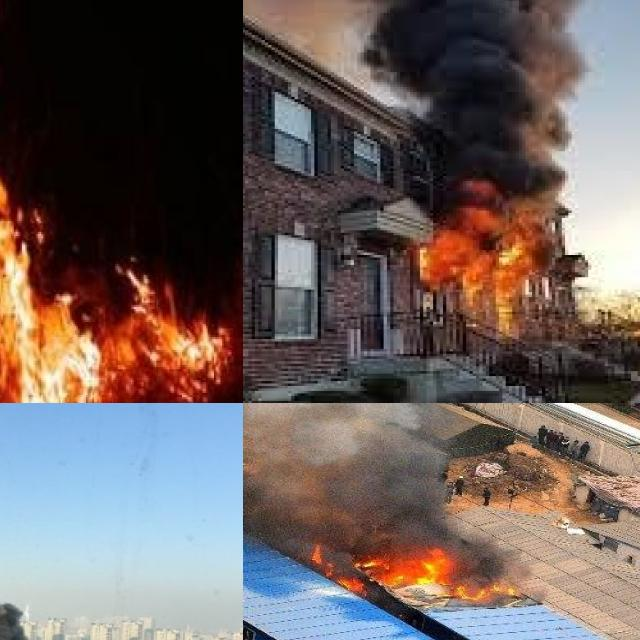fire: (0, 0, 236, 403), (390, 176, 578, 334), (308, 525, 527, 622)
smoke: (284, 0, 575, 200), (243, 403, 445, 528), (0, 403, 80, 640)
